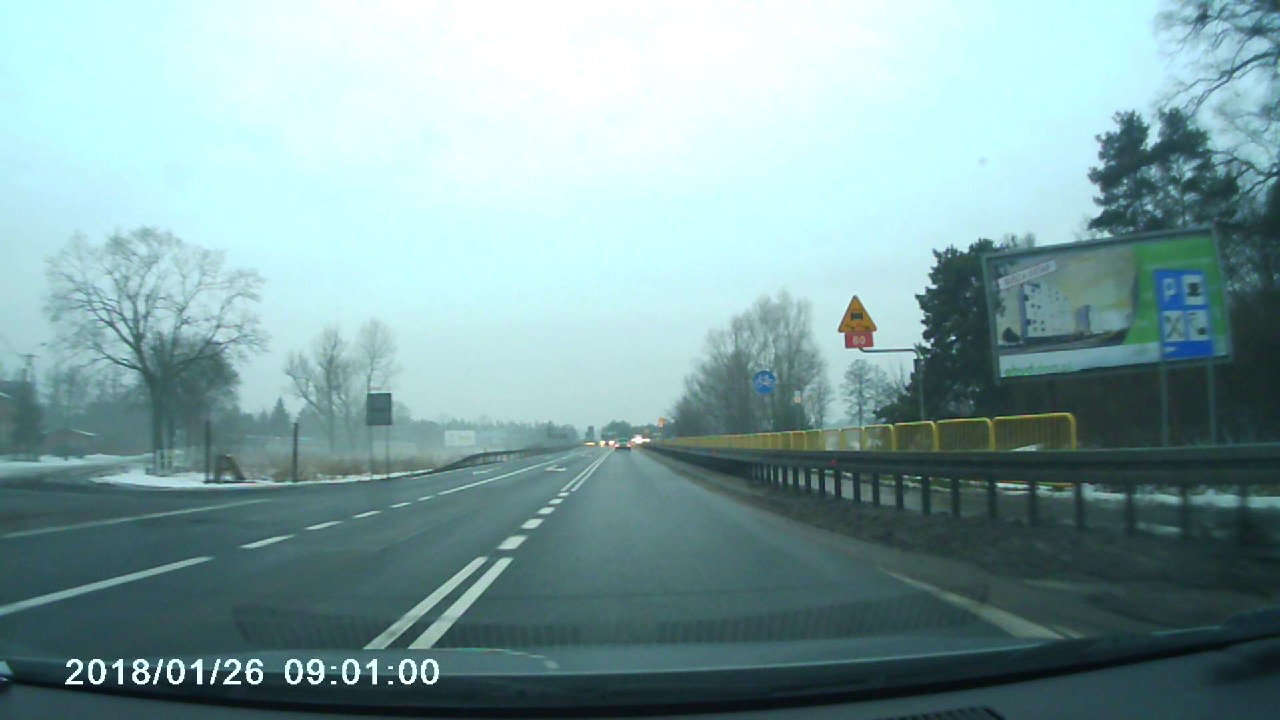D18: (1155, 271, 1185, 305)
